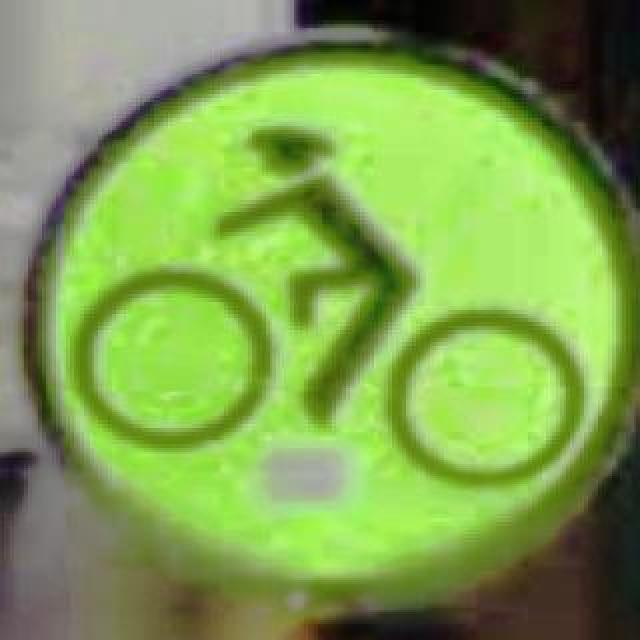bike lane: (18, 24, 626, 588)
